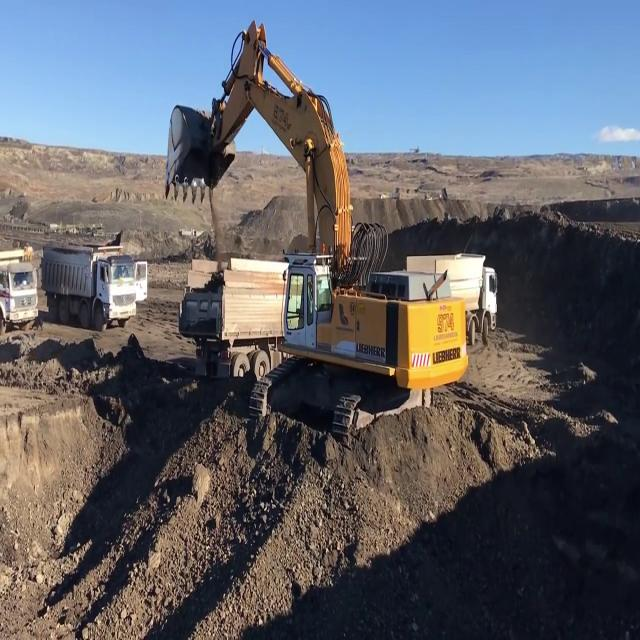excavator: (162, 18, 469, 443)
